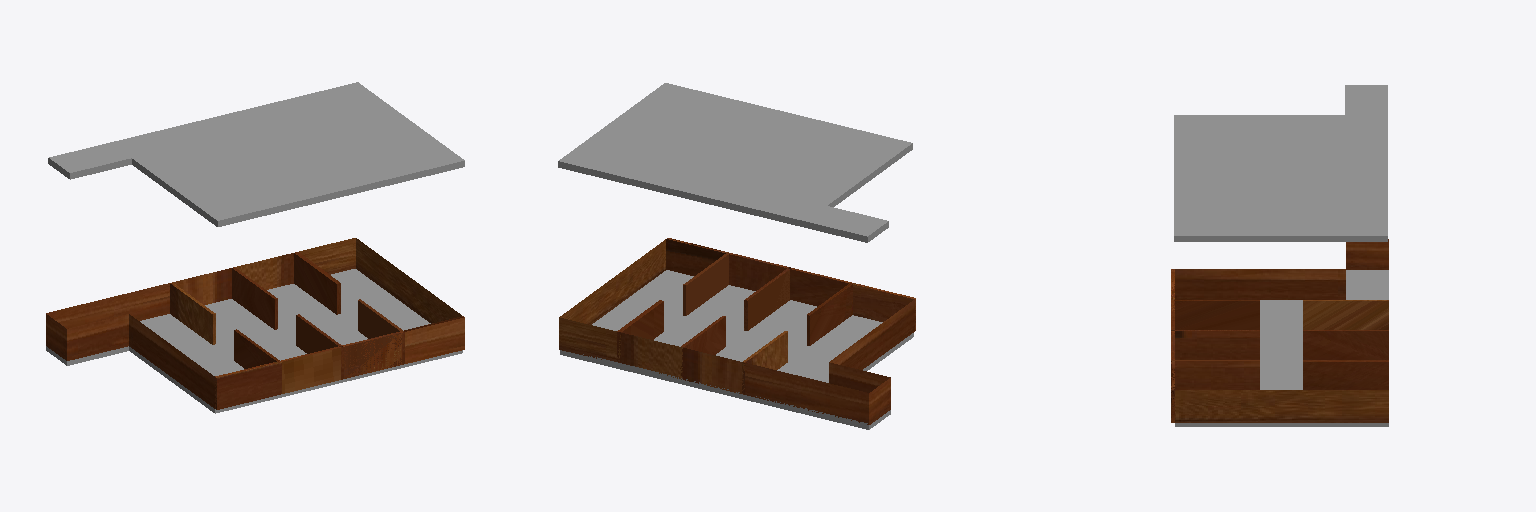
The picture shows the model from 3 angles: view 1: azimuth 30°, elevation 25°; view 2: azimuth 150°, elevation 25°; view 3: azimuth 270°, elevation 25°; orthographic projection.
Size of the model in its own units: 101 by 59.5 by 61.
Materials: 5 (1 with a texture image).